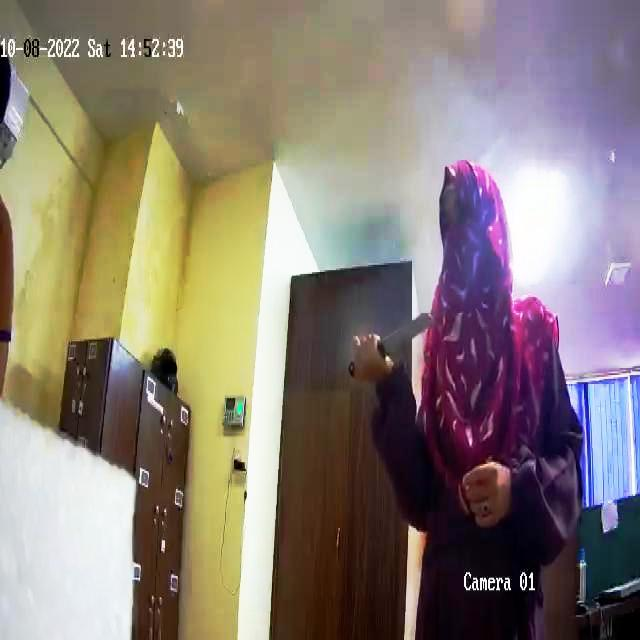Knife: (342, 305, 437, 370)
